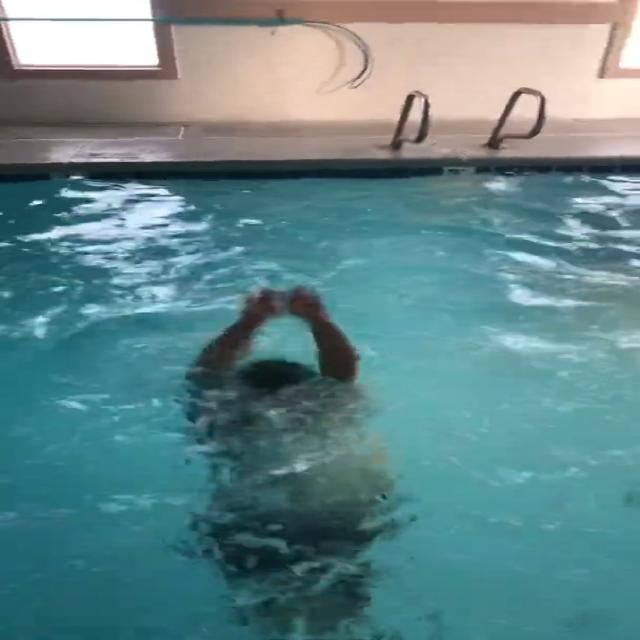Drowning: (134, 270, 526, 627)
